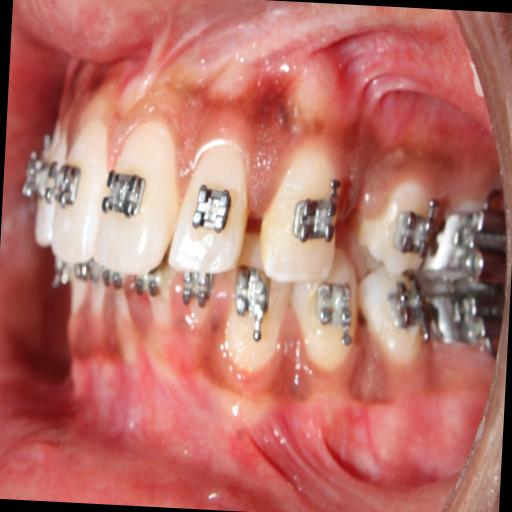correct_brace: (288, 170, 345, 248), (187, 180, 234, 238)
incorrect_brace: (166, 126, 256, 278)
